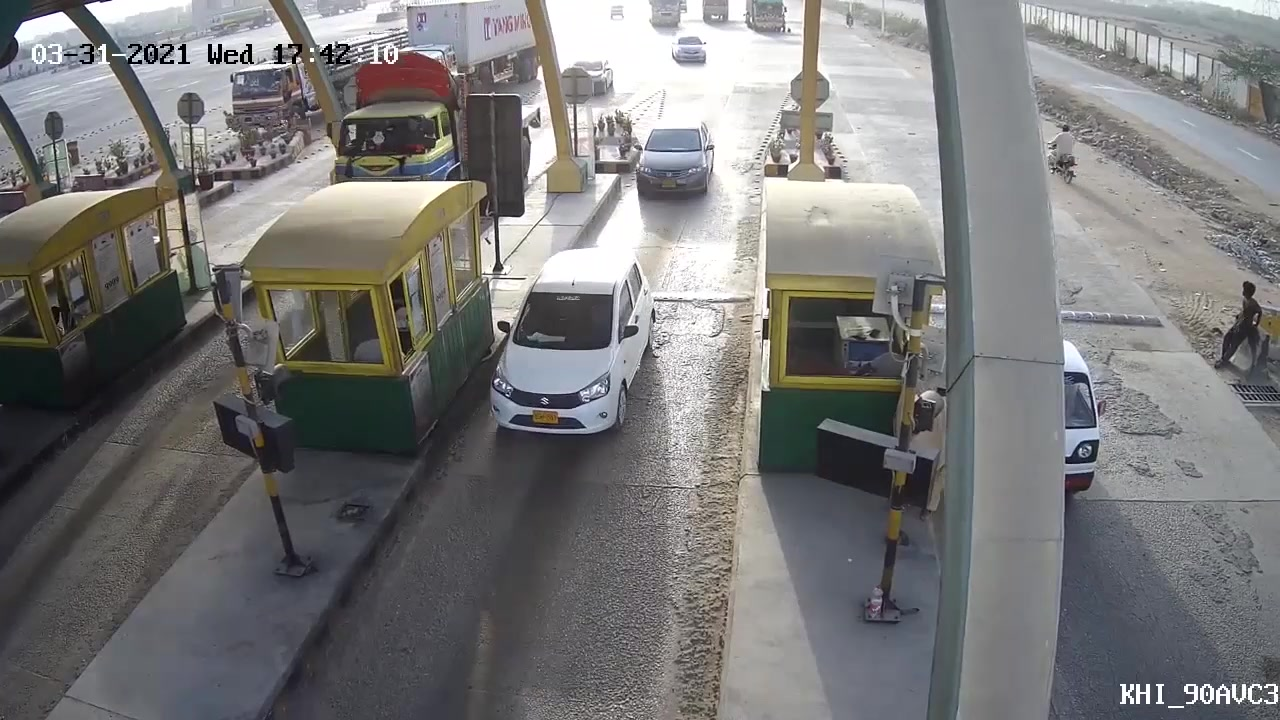F1: (487, 244, 657, 459), (625, 112, 725, 211)
